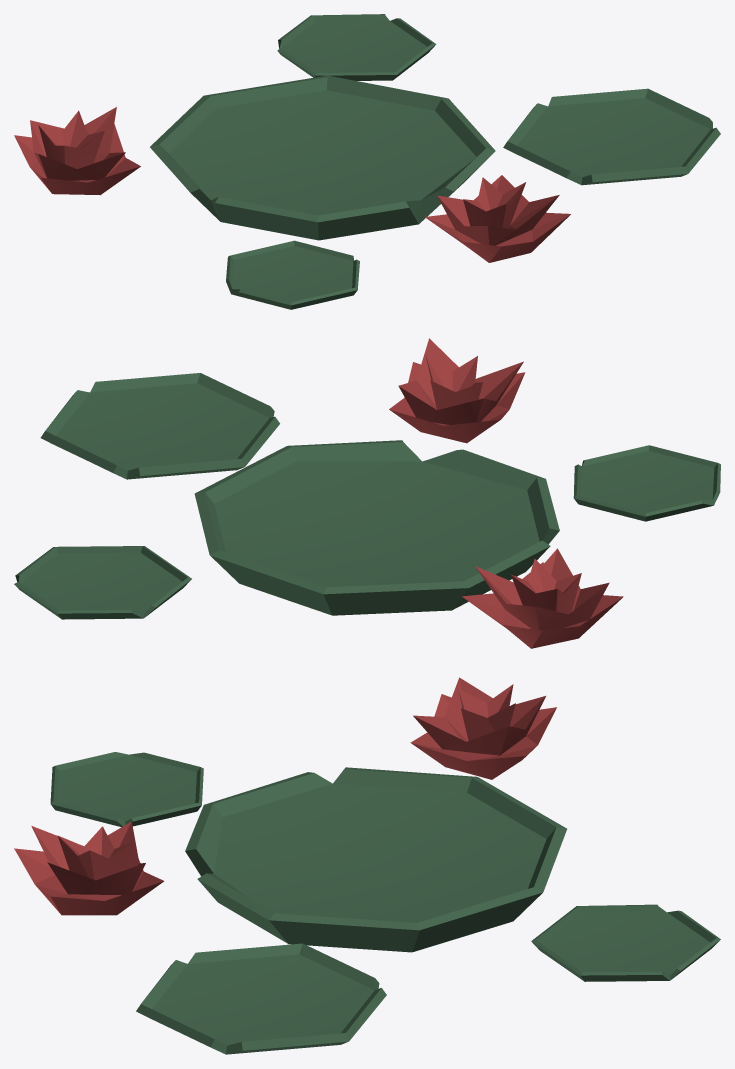
The model's file is LilyC.fbx.
3 renders of one model, top to bottom at view 1: azimuth 30°, elevation 25°; view 2: azimuth 150°, elevation 25°; view 3: azimuth 270°, elevation 25°, orthographic. The views are drawn at different scales.
Visible parts, largest first — view 1: LilyC; view 2: LilyC; view 3: LilyC.
Part boxes in pixels (box(x1,y1,x2,y2)): LilyC: box(14, 14, 720, 309); LilyC: box(14, 338, 720, 648); LilyC: box(14, 677, 720, 1054).
Bounding box in the file's own units: 152 × 17.58 × 138.
